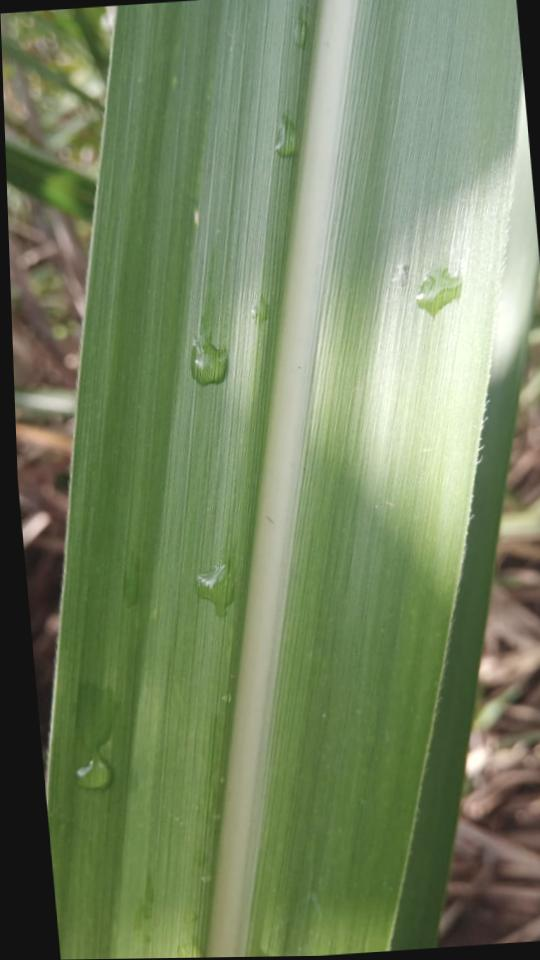Healthy: (47, 0, 537, 960)
